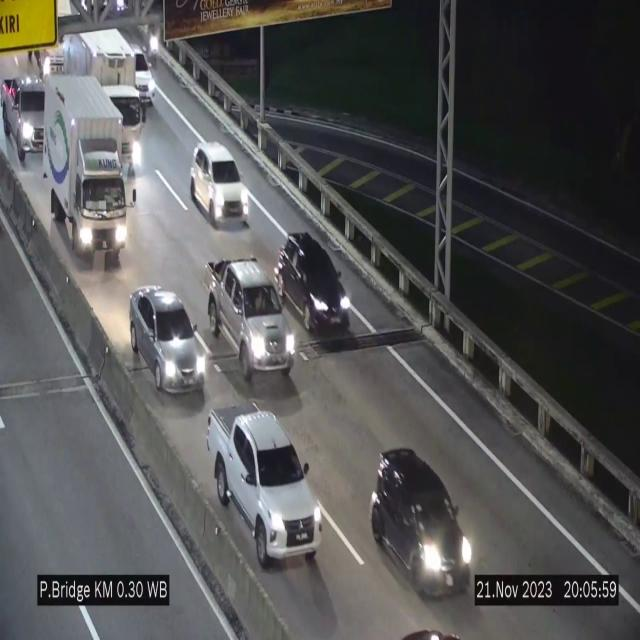Car: (207, 365, 321, 566), (368, 449, 472, 595), (205, 256, 293, 377), (130, 286, 208, 392), (275, 232, 352, 337), (190, 142, 248, 227), (1, 72, 46, 163), (123, 32, 157, 110)
Truck: (41, 73, 140, 266), (68, 28, 144, 176)
